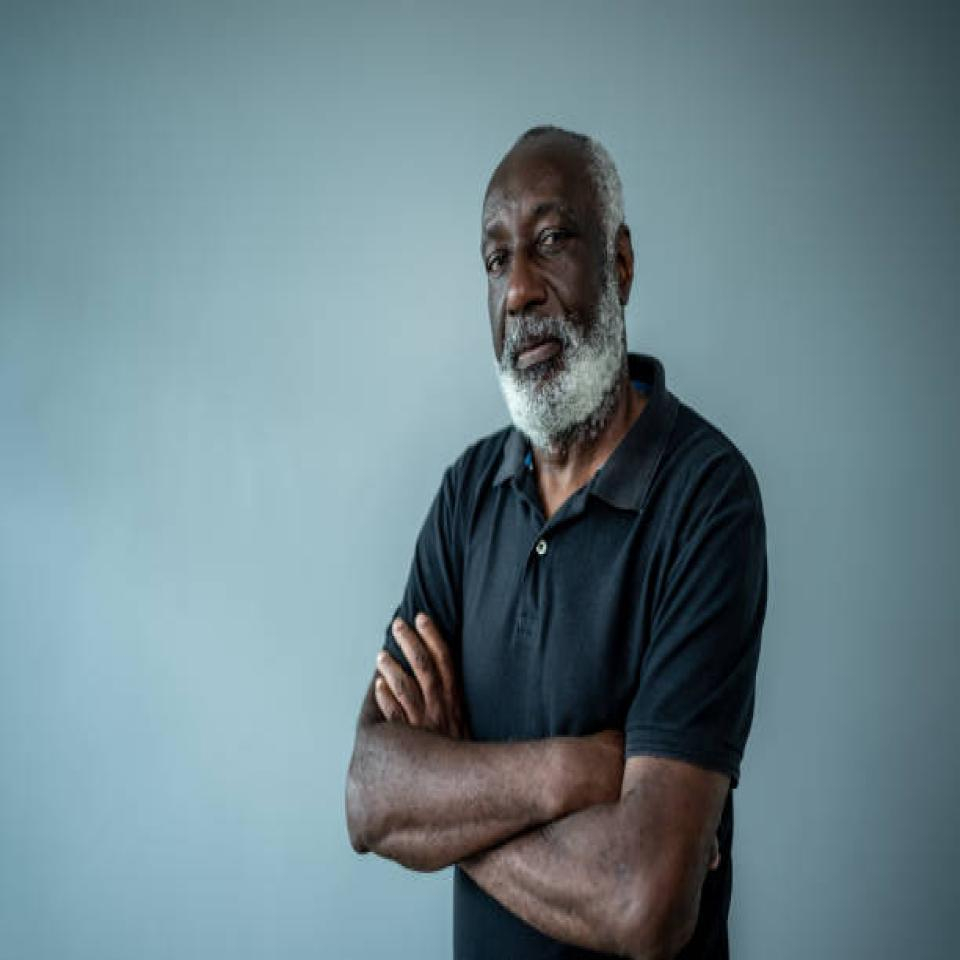Sadness: (478, 132, 622, 432)
